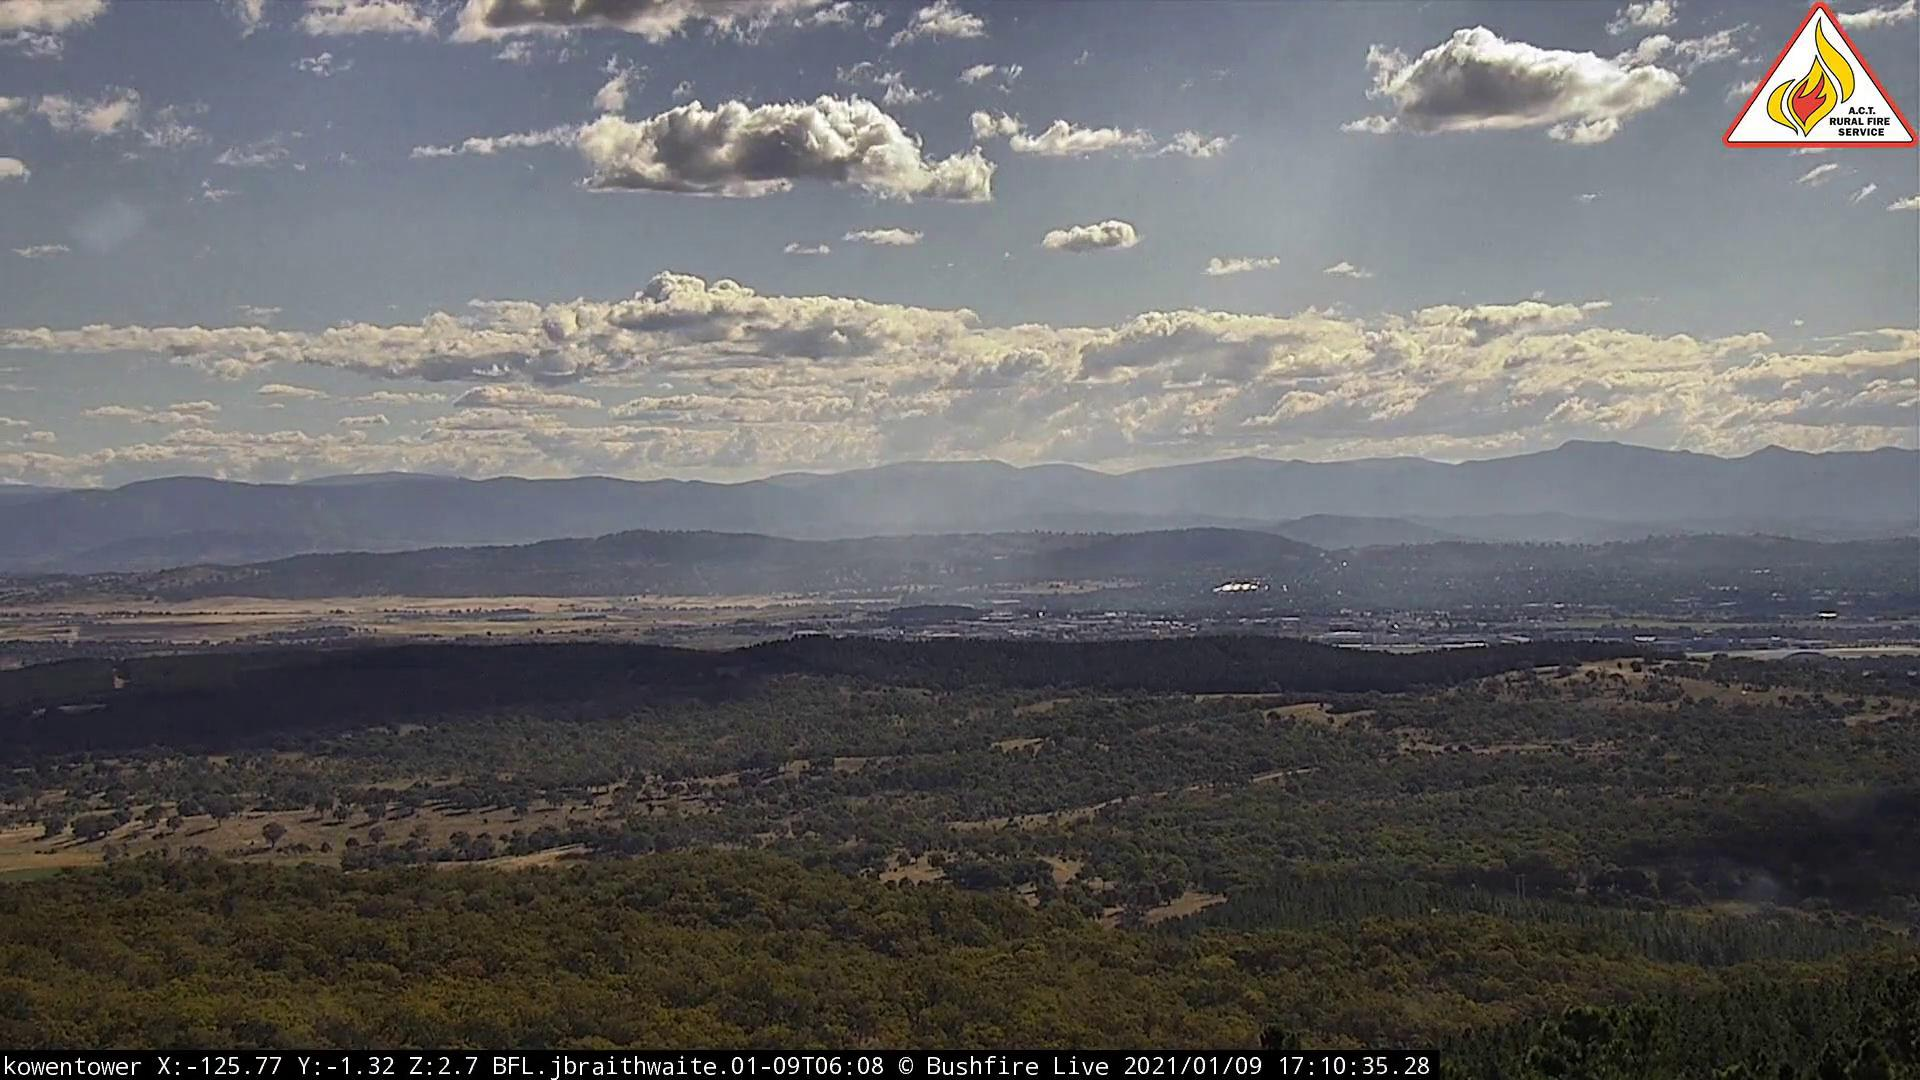Smoke: (727, 527, 952, 611)
